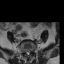CCS_severe_stenosis: (27, 49, 29, 56)
LFS_stenosis: (30, 48, 32, 53)
LLS_normal: (29, 49, 30, 55)
RFS_stenosis: (24, 49, 25, 53)
RLS_normal: (25, 49, 27, 55)
